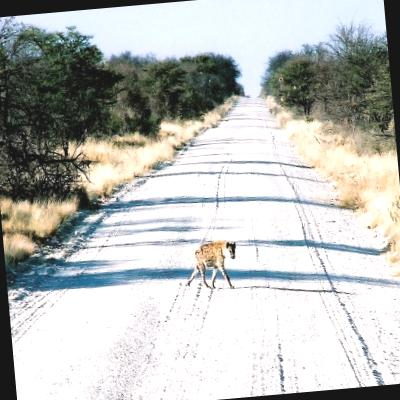hyenas: (164, 218, 253, 298)
